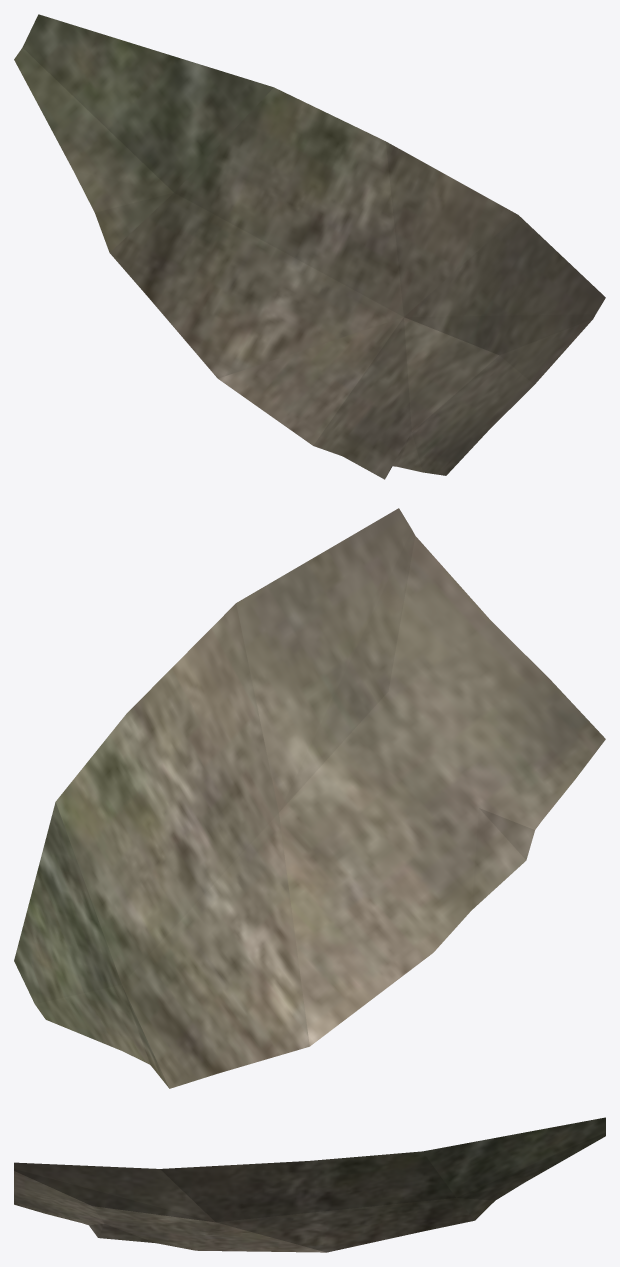
3 views of the same model, one above another, from view 1: azimuth 30°, elevation 25°; view 2: azimuth 150°, elevation 25°; view 3: azimuth 270°, elevation 25° (orthographic). The views are drawn at different scales.
Bounding box in the file's own units: 1.41 × 1.58 × 5.9.
Materials: 1 (1 with a texture image).
